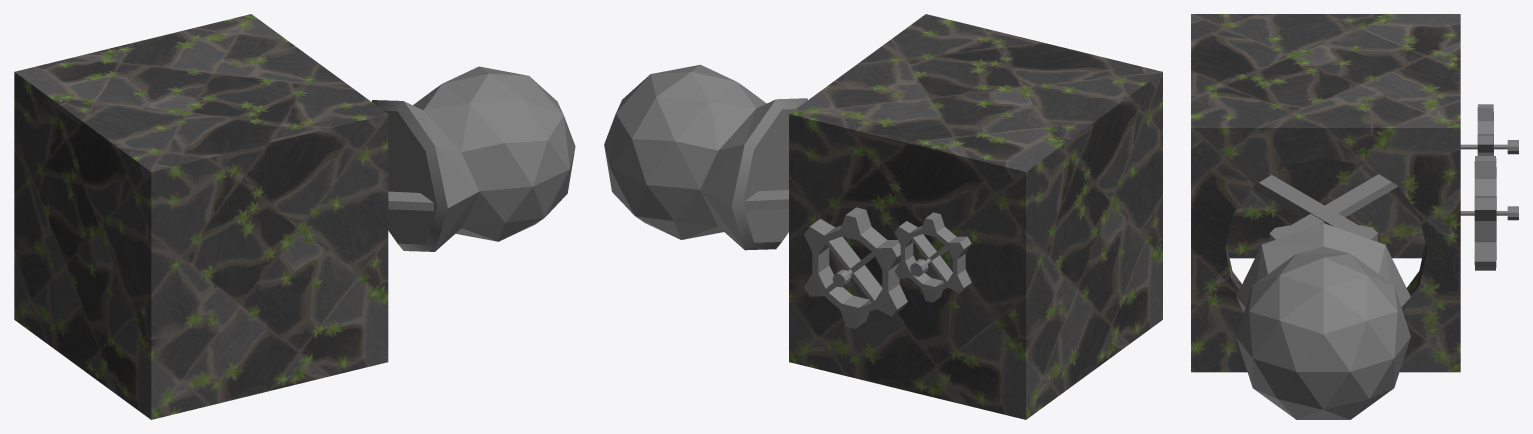
Rendered from Trap_kulak.fbx.
3 renders of one model, left to right at view 1: azimuth 30°, elevation 25°; view 2: azimuth 150°, elevation 25°; view 3: azimuth 270°, elevation 25°, orthographic.
Visible parts, largest first — view 1: Icosphere001, Cube_04_021, Cube_04_022, Cube_03_019, Cube_03_022, Cube_01_021, Cube_01_023, Cube_03_018, Cube_03_017, Cube_02_030, Cube_01_028, Cube_01_027 (+2 smaller); view 2: Icosphere001, Cube_01_025, Cube_01_024, Cube_02_028, Cube_02_025, Cube_01_023, Cube_01_021, Cube_03_018, Cube_03_017, Cube_02_029, Cube_01_027, Cube_01_028 (+4 smaller); view 3: Cube_01_029, Icosphere001, Cube_01_027, Cube_01_028, Cube_02_029, Cube_02_030, Cube_01_021, Cube_03_018, Circle.002, Cylinder.007, Cylinder.008, Cylinder.009.
Boxes of the visible parts, <box> form: Icosphere001: <box>371,66,575,251</box>; Cube_04_021: <box>269,114,388,266</box>; Cube_04_022: <box>269,238,388,390</box>; Cube_03_019: <box>151,143,269,295</box>; Cube_03_022: <box>151,267,269,419</box>; Cube_01_021: <box>14,196,82,369</box>; Cube_01_023: <box>14,72,82,245</box>; Cube_03_018: <box>83,246,151,419</box>; Cube_03_017: <box>83,122,151,295</box>; Cube_02_030: <box>202,64,387,142</box>; Cube_01_028: <box>14,43,200,121</box>; Cube_01_027: <box>83,93,268,171</box>; Icosphere001: <box>604,64,807,250</box>; Cube_01_025: <box>907,271,1025,419</box>; Cube_01_024: <box>907,143,1025,295</box>; Cube_02_028: <box>789,114,907,262</box>; Cube_02_025: <box>789,238,907,390</box>; Cube_01_023: <box>1026,122,1094,295</box>; Cube_01_021: <box>1026,246,1094,419</box>; Cube_03_018: <box>1094,196,1162,369</box>; Cube_03_017: <box>1094,72,1162,245</box>; Cube_02_029: <box>789,64,975,142</box>; Cube_01_027: <box>976,43,1162,121</box>; Cube_01_028: <box>908,93,1093,171</box>; Cube_01_029: <box>1191,128,1460,372</box>; Icosphere001: <box>1236,223,1410,419</box>; Cube_01_027: <box>1191,14,1325,70</box>; Cube_01_028: <box>1326,14,1460,70</box>; Cube_02_029: <box>1326,71,1460,127</box>; Cube_02_030: <box>1191,71,1325,127</box>; Cube_01_021: <box>1326,158,1425,258</box>; Cube_03_018: <box>1226,158,1325,258</box>; Circle.002: <box>1460,156,1518,270</box>; Cylinder.007: <box>1252,175,1377,241</box>; Cylinder.008: <box>1269,174,1397,241</box>; Cylinder.009: <box>1460,104,1518,155</box>.
Bounding box in the file's own units: 1613 × 973 × 800.
